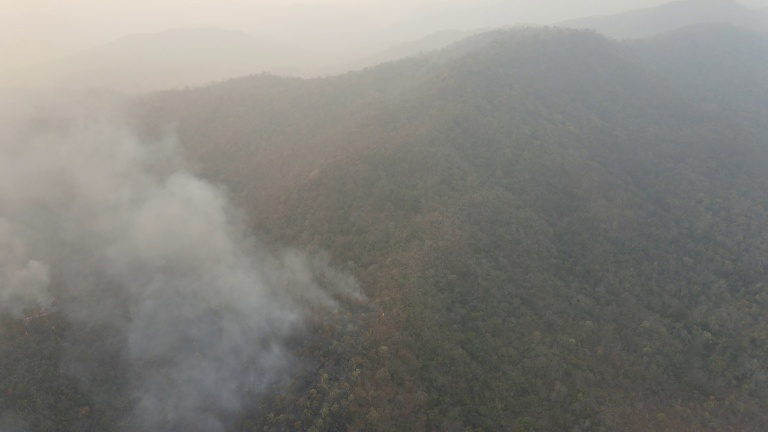fire: (363, 309, 388, 340)
smoke: (1, 48, 388, 432)
